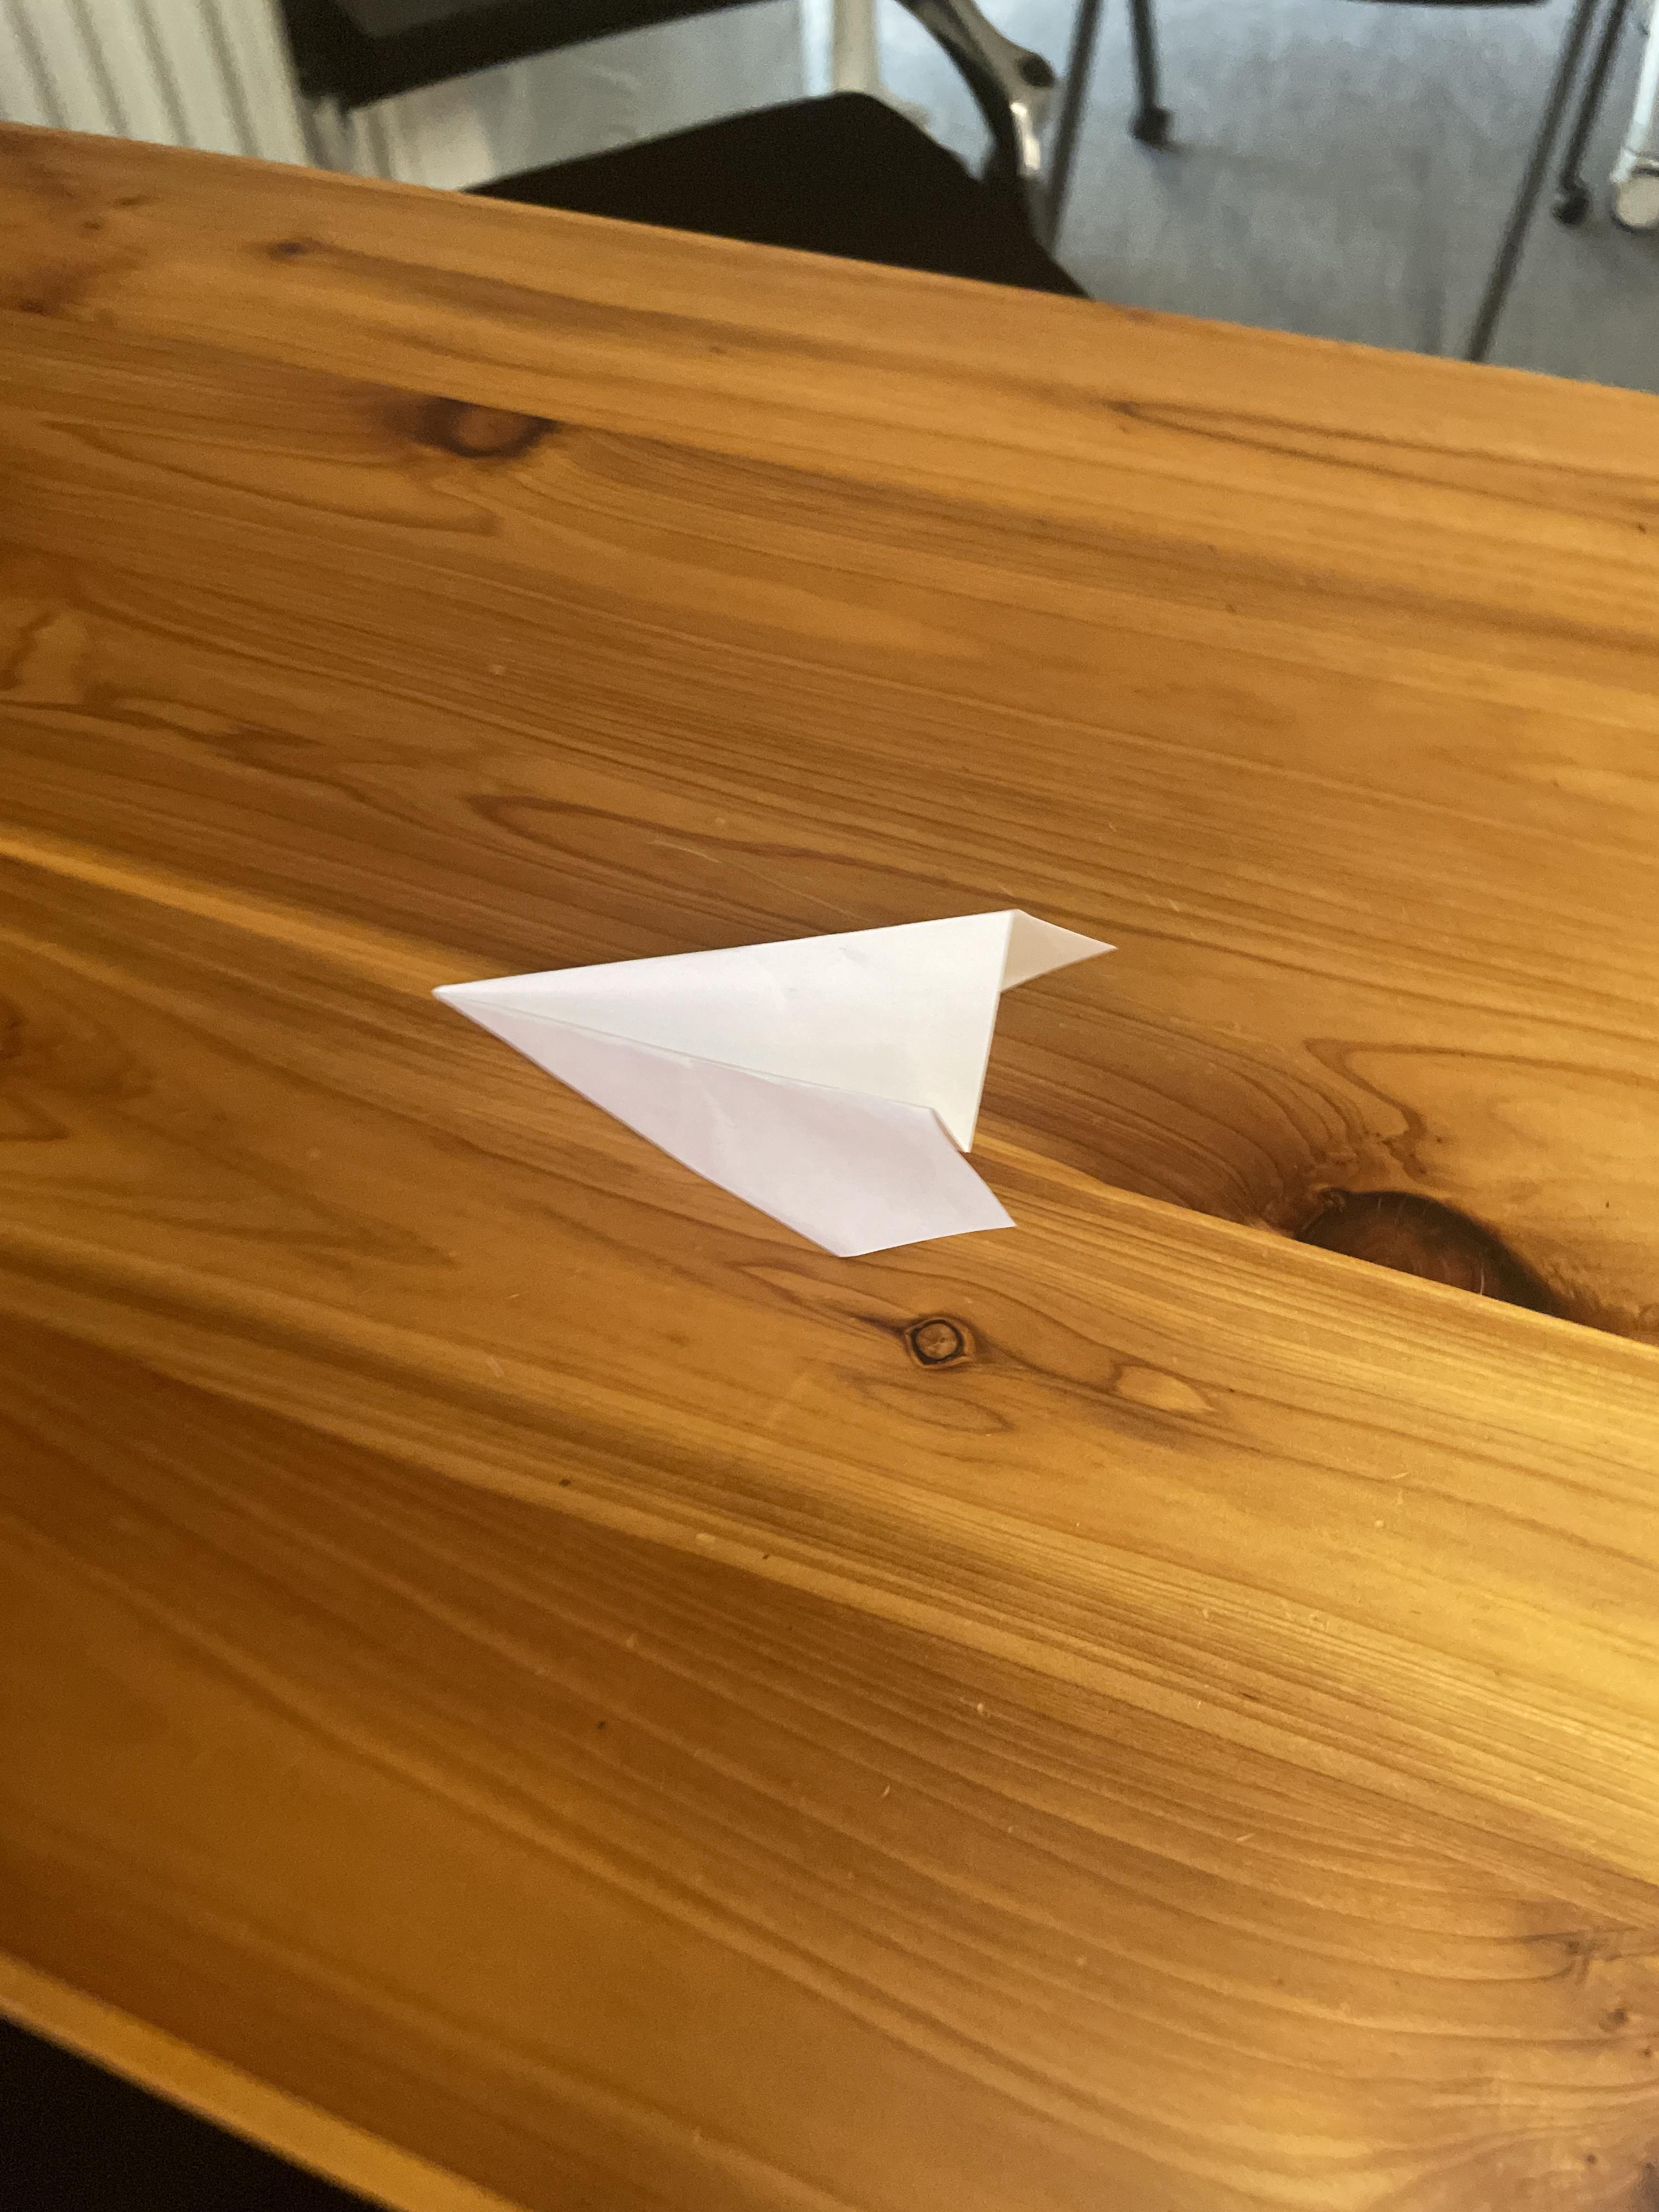shape_3: (383, 627, 1220, 1397)
